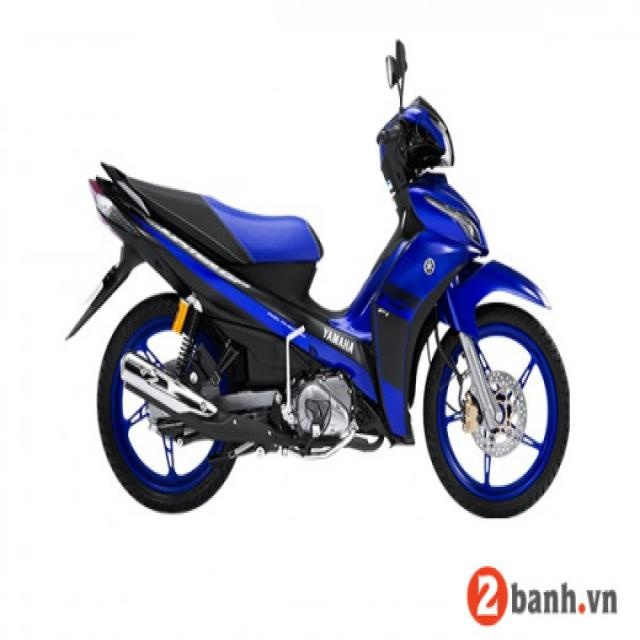Motorcycle: (63, 32, 576, 519)
